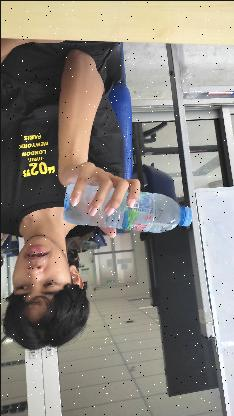Plastic Bottle: (60, 172, 194, 235)
